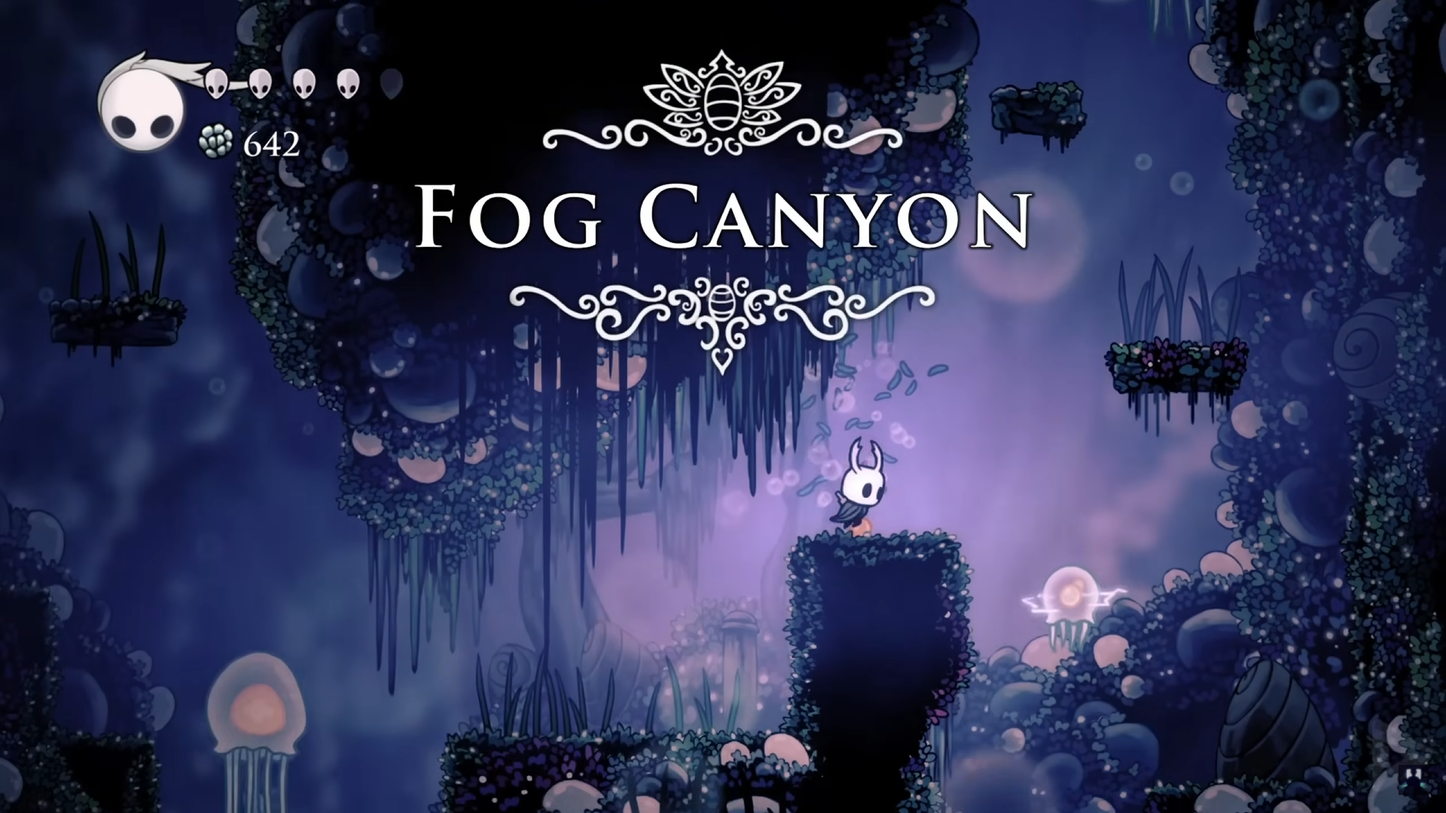HK: (825, 436, 890, 536)
